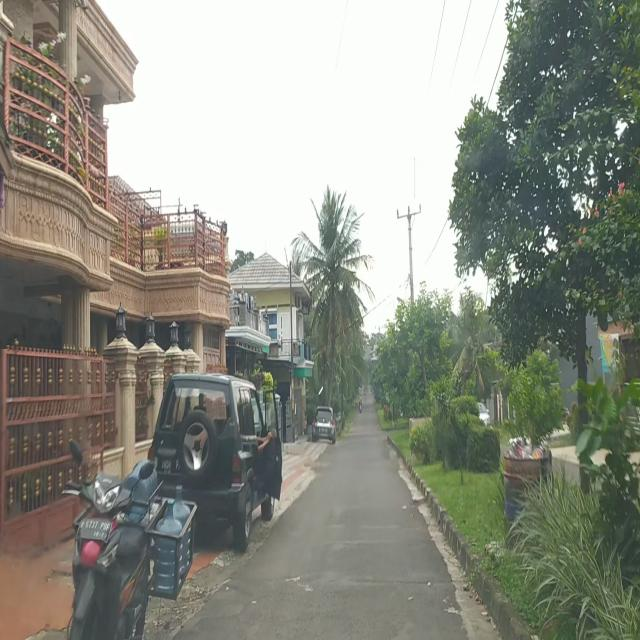Sewer Cover: (346, 579, 436, 587)
